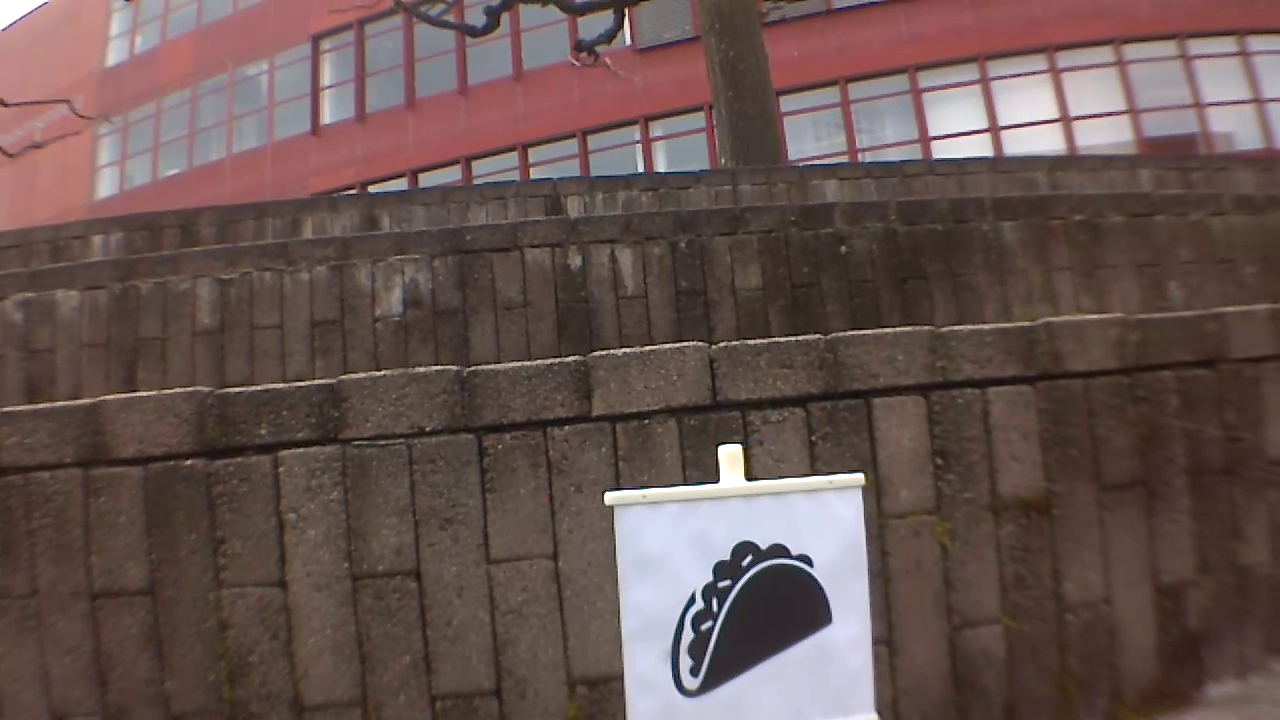taco: (655, 532, 843, 708)
